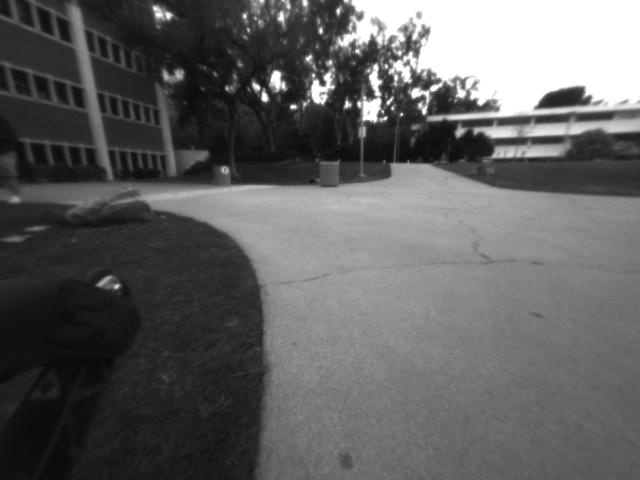trashcan: (210, 159, 236, 189), (317, 161, 341, 190)
